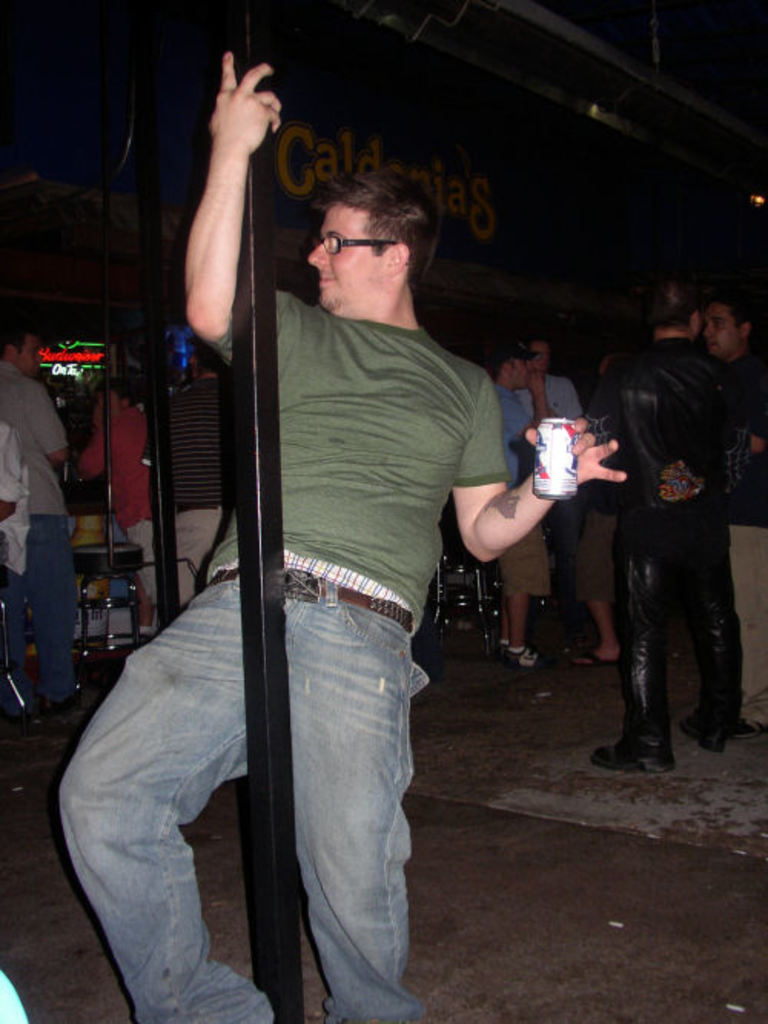Footwear: (680, 689, 737, 751), (590, 735, 667, 772), (567, 643, 624, 665), (492, 634, 522, 671), (504, 645, 550, 669), (0, 703, 34, 728), (51, 694, 75, 711), (135, 625, 157, 643)
